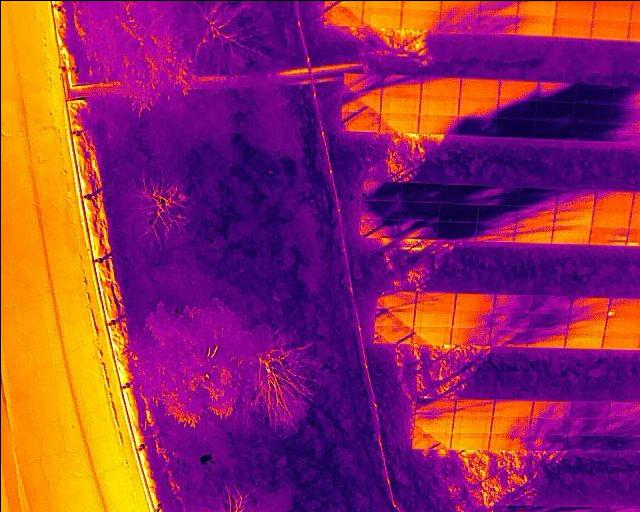Cell: (605, 298, 640, 316)
Cell-Multi: (590, 225, 628, 245)
No-Anomaly: (593, 0, 632, 20), (459, 78, 500, 97), (419, 95, 459, 114), (591, 20, 630, 39), (515, 16, 553, 35), (400, 10, 438, 29), (593, 208, 631, 227), (361, 9, 401, 27), (453, 292, 493, 310), (380, 95, 420, 113), (492, 398, 531, 416), (553, 18, 591, 36), (413, 310, 453, 327), (516, 0, 554, 17), (451, 416, 491, 432), (554, 1, 593, 17), (601, 332, 640, 348), (451, 433, 488, 449), (605, 317, 640, 333), (566, 332, 602, 347)
Shadowing: (381, 73, 421, 95), (341, 72, 381, 93), (593, 188, 632, 209), (421, 75, 461, 95), (438, 184, 477, 204), (476, 204, 515, 224), (477, 185, 515, 205), (497, 79, 537, 98), (323, 5, 361, 25), (553, 189, 593, 208), (415, 291, 455, 310), (530, 296, 572, 314), (572, 102, 611, 121), (398, 219, 437, 238), (459, 96, 498, 115), (359, 218, 398, 237), (360, 200, 399, 219), (340, 111, 379, 130), (474, 222, 513, 241), (450, 327, 489, 346), (496, 116, 533, 136), (418, 114, 459, 132), (414, 398, 455, 416), (573, 83, 611, 102), (438, 13, 476, 32), (534, 100, 572, 119), (515, 187, 553, 206), (362, 181, 400, 200), (490, 414, 528, 433), (340, 93, 380, 111), (496, 99, 536, 117), (437, 203, 477, 221), (379, 113, 419, 131), (570, 297, 607, 316), (516, 206, 553, 225), (533, 119, 570, 138), (493, 294, 532, 312), (571, 121, 610, 139), (376, 289, 415, 307), (399, 201, 438, 219), (476, 15, 515, 33), (550, 225, 589, 243), (529, 314, 568, 332), (489, 327, 528, 345), (459, 116, 497, 134), (400, 183, 438, 201), (532, 400, 570, 418), (453, 310, 493, 327), (437, 221, 474, 239), (489, 432, 526, 450), (374, 308, 413, 325), (452, 399, 491, 416), (513, 225, 551, 242), (373, 326, 411, 343), (492, 312, 530, 329), (528, 418, 568, 434), (411, 327, 451, 343), (553, 209, 592, 225), (570, 402, 609, 418), (527, 331, 566, 347), (567, 418, 606, 434), (414, 416, 453, 432), (536, 83, 572, 100), (568, 315, 606, 331), (526, 436, 565, 451), (565, 435, 601, 451), (478, 0, 516, 15), (412, 432, 450, 447)
